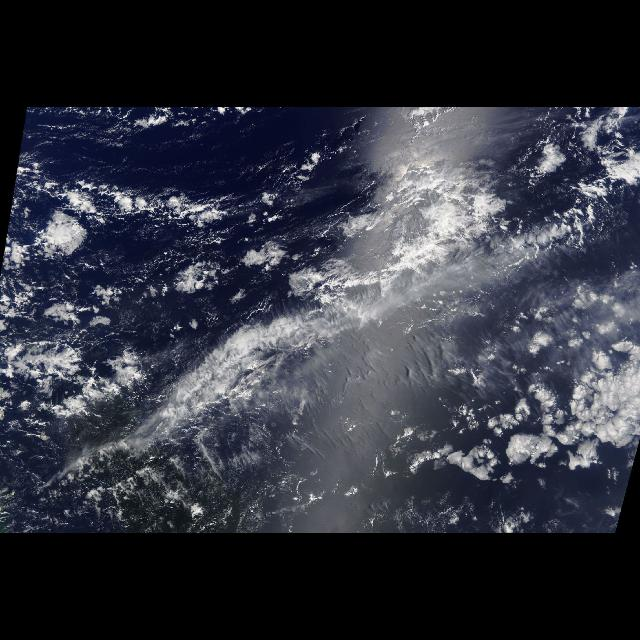Fish: (31, 214, 595, 501)
Flower: (408, 329, 638, 499), (1, 190, 94, 422)
Gravel: (1, 108, 280, 396)
